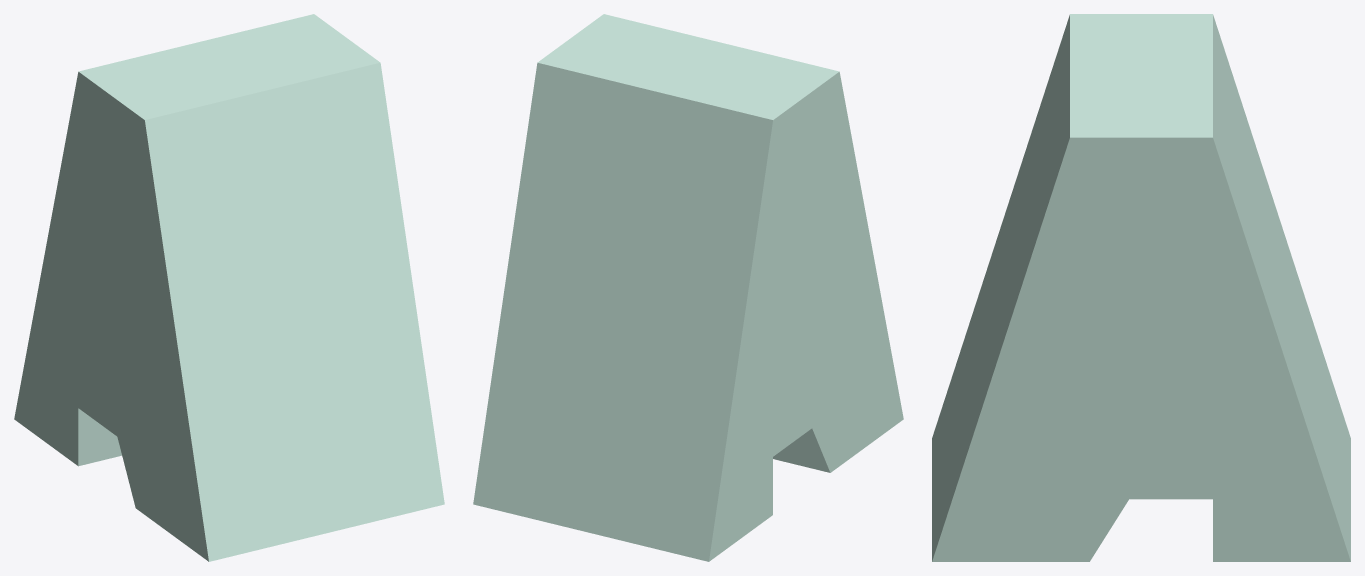
3 renders of one model, left to right at view 1: azimuth 30°, elevation 25°; view 2: azimuth 150°, elevation 25°; view 3: azimuth 270°, elevation 25°, orthographic. The views are drawn at different scales.
Parts seen in each view (by area): view 1: Renderer Node; view 2: Renderer Node; view 3: Renderer Node.
Boxes of the visible parts, left/top/right/bottom form: Renderer Node: left=14, top=14, right=444, bottom=561; Renderer Node: left=473, top=14, right=903, bottom=561; Renderer Node: left=932, top=14, right=1350, bottom=561.
Bounding box in the file's own units: 0.4688 × 0.75 × 0.6711.
